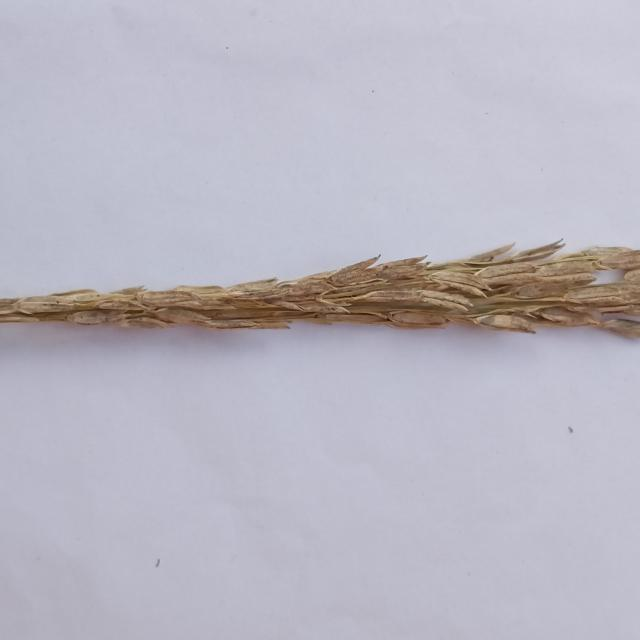Neck_Blast: (0, 247, 639, 335)
